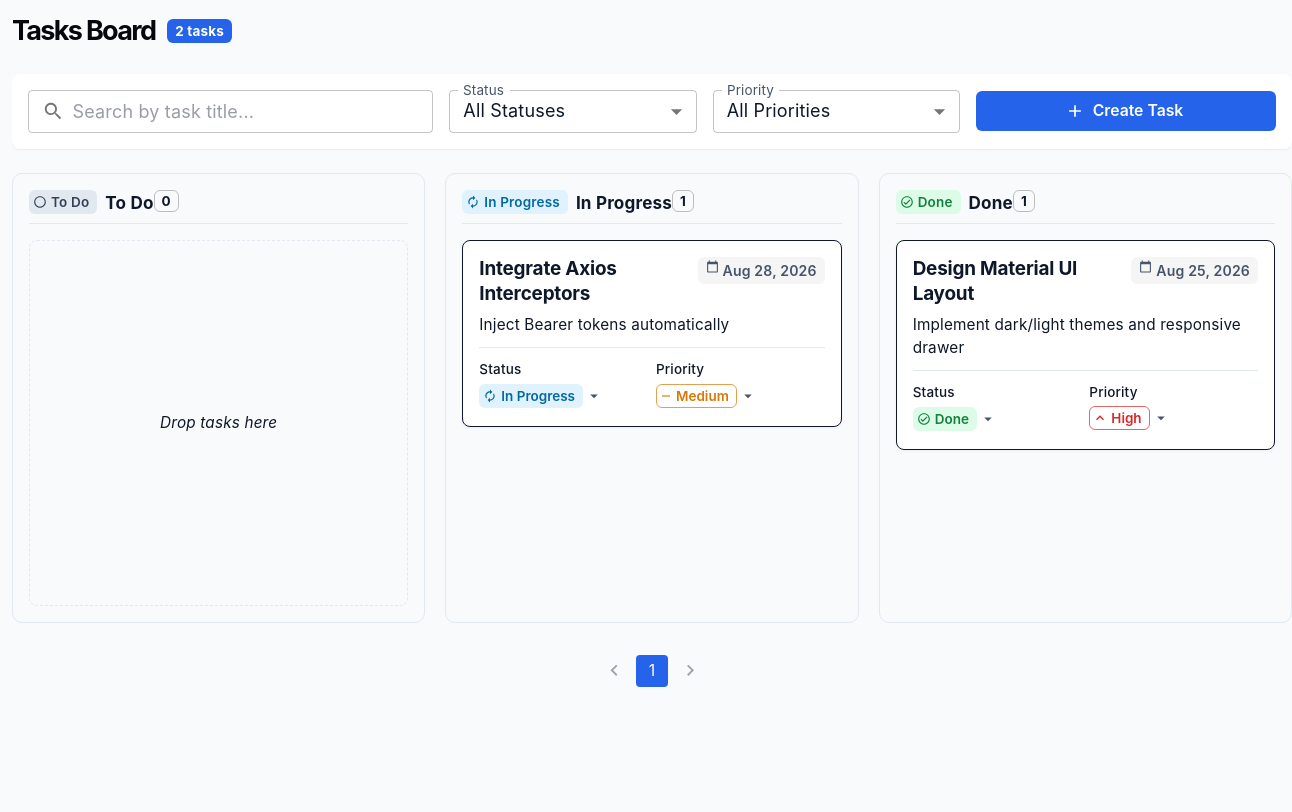
TasksPage Dashboard Component › search & filters: passes search input and clear action correctly
The width and height of the screenshot is (1292, 812).
Expected: the heading "Design Material UI Layout" is shown, [913,257,1077,305]
Step 1. Type "Material" into the field named "search tasks by title" → (253, 111), box [72,90,433,133]
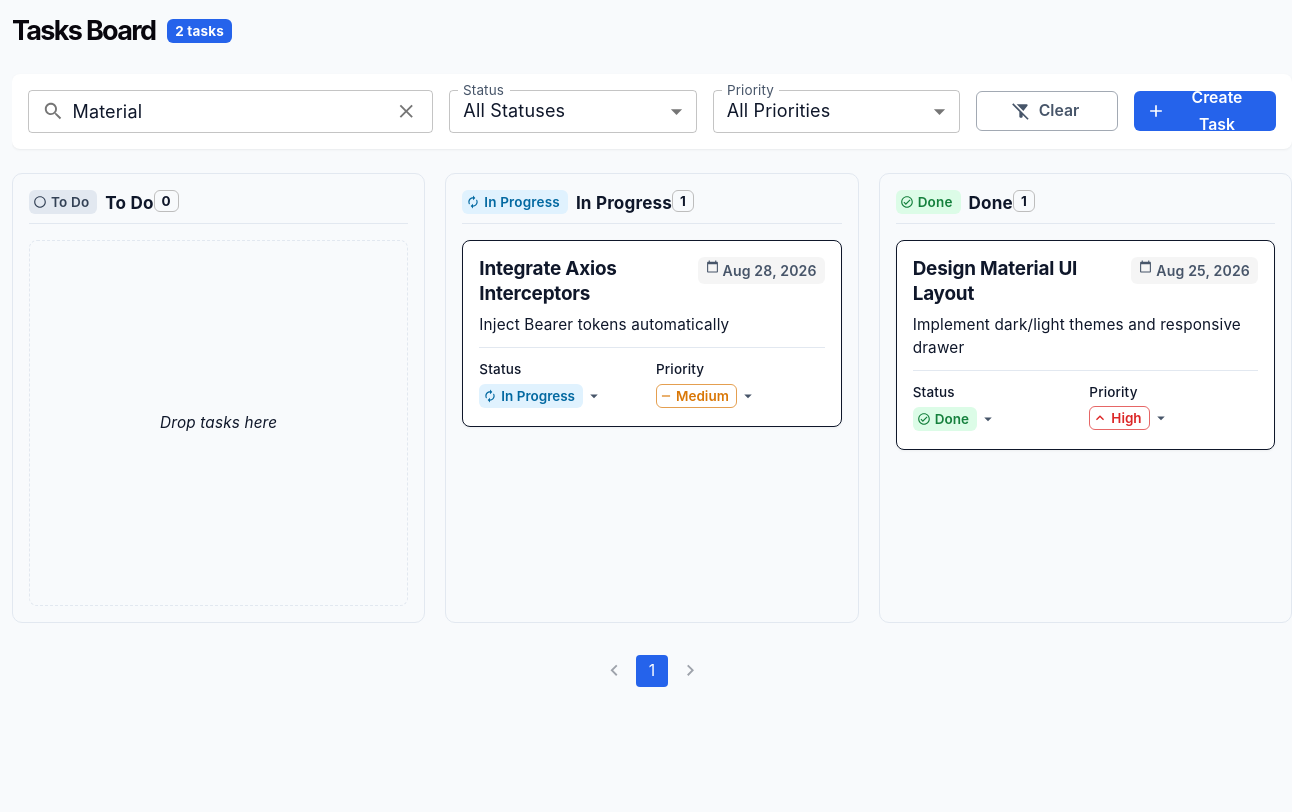
Step 2. Click the button with aria-label "clear search and filters" → (1047, 111), box [976,91,1118,131]
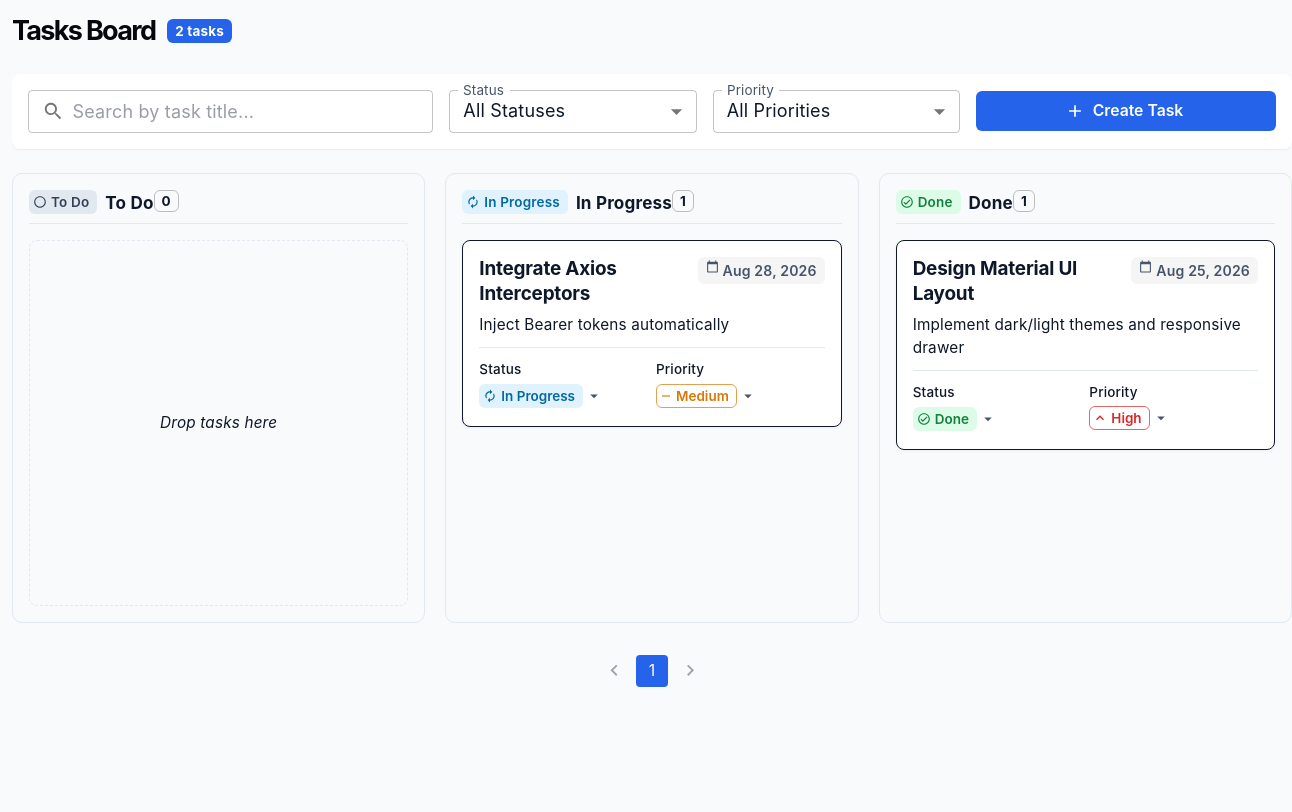
Expected: the field named "search tasks by title" is empty, [72,90,433,133]
